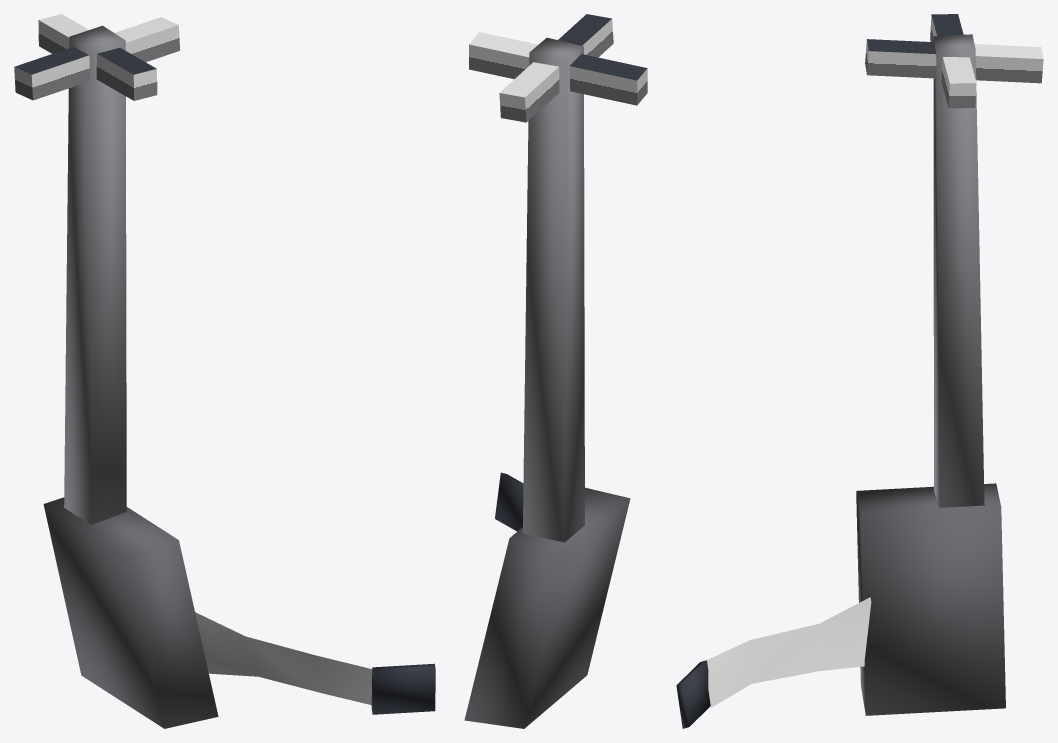
File: airwireHeadset.glb
The picture shows the model from 3 angles, left to right: view 1: azimuth 30°, elevation 25°; view 2: azimuth 150°, elevation 25°; view 3: azimuth 270°, elevation 25°; orthographic projection. The views are drawn at different scales.
Visible parts, largest first — view 1: airwire; view 2: airwire; view 3: airwire.
Part boxes in pixels (x1,y1,x2,y2): airwire: [14, 14, 435, 728]; airwire: [464, 14, 647, 728]; airwire: [676, 14, 1043, 728].
Bounding box in the file's own units: 4.28 × 9.69 × 5.05.
1 material, 1 textured.
